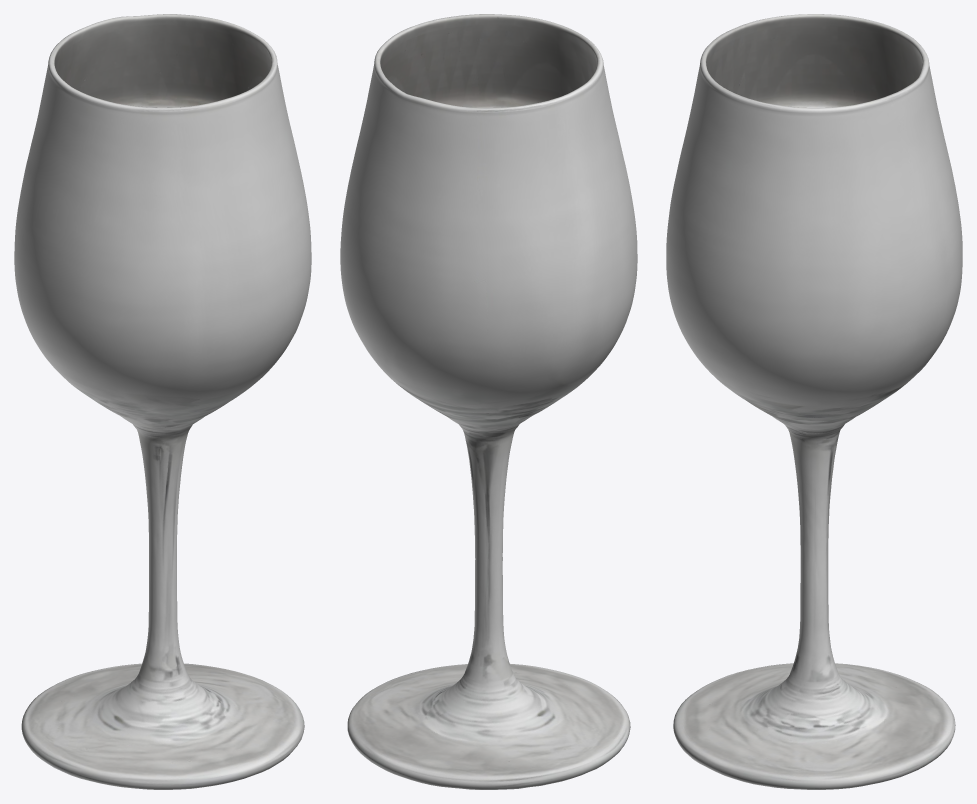
Rendered from model_white_wine_glass.glb.
3 views of the same model, side by side, from view 1: azimuth 30°, elevation 25°; view 2: azimuth 150°, elevation 25°; view 3: azimuth 270°, elevation 25° (orthographic).
Visible parts, largest first — view 1: tripo_node_2c1c727f-53c1-43a4-81de-90ddf71ff4b7; view 2: tripo_node_2c1c727f-53c1-43a4-81de-90ddf71ff4b7; view 3: tripo_node_2c1c727f-53c1-43a4-81de-90ddf71ff4b7.
Part boxes in pixels (x1,y1,x2,y2): tripo_node_2c1c727f-53c1-43a4-81de-90ddf71ff4b7: (14, 14, 311, 789); tripo_node_2c1c727f-53c1-43a4-81de-90ddf71ff4b7: (340, 14, 637, 789); tripo_node_2c1c727f-53c1-43a4-81de-90ddf71ff4b7: (666, 14, 962, 789).
Bounding box in the file's own units: 0.4001 × 0.9999 × 0.4002.
Materials: 1 (1 with a texture image).
